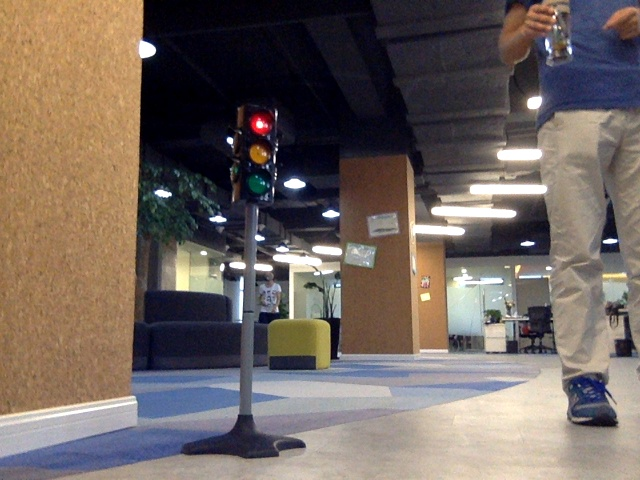red: (240, 107, 273, 196)
